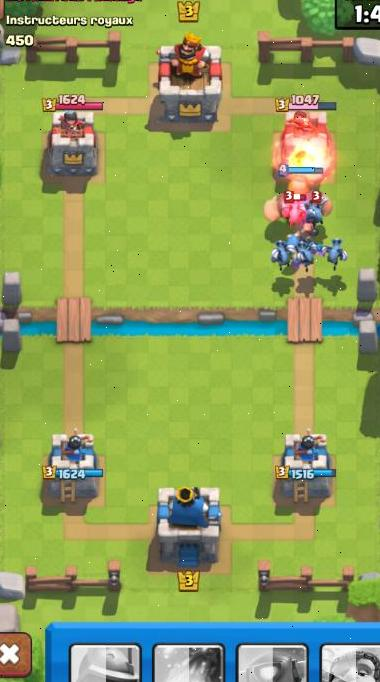enemy_minions: (300, 193, 329, 228), (283, 190, 306, 226)
player_minions: (267, 236, 297, 269), (319, 234, 349, 266), (292, 238, 319, 268)
